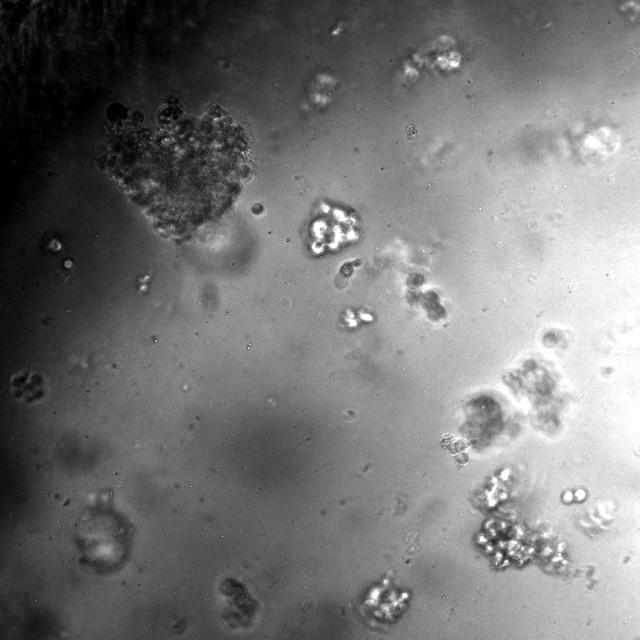organoid: (98, 96, 252, 242), (441, 356, 568, 465), (469, 465, 574, 577), (75, 488, 133, 574), (302, 200, 362, 257), (352, 570, 411, 627), (398, 35, 463, 86), (405, 272, 448, 323), (220, 577, 259, 627), (9, 368, 46, 403), (538, 325, 573, 352), (339, 306, 375, 330), (334, 258, 362, 288), (41, 232, 64, 255), (560, 487, 587, 505), (250, 202, 264, 215), (61, 257, 74, 270)
